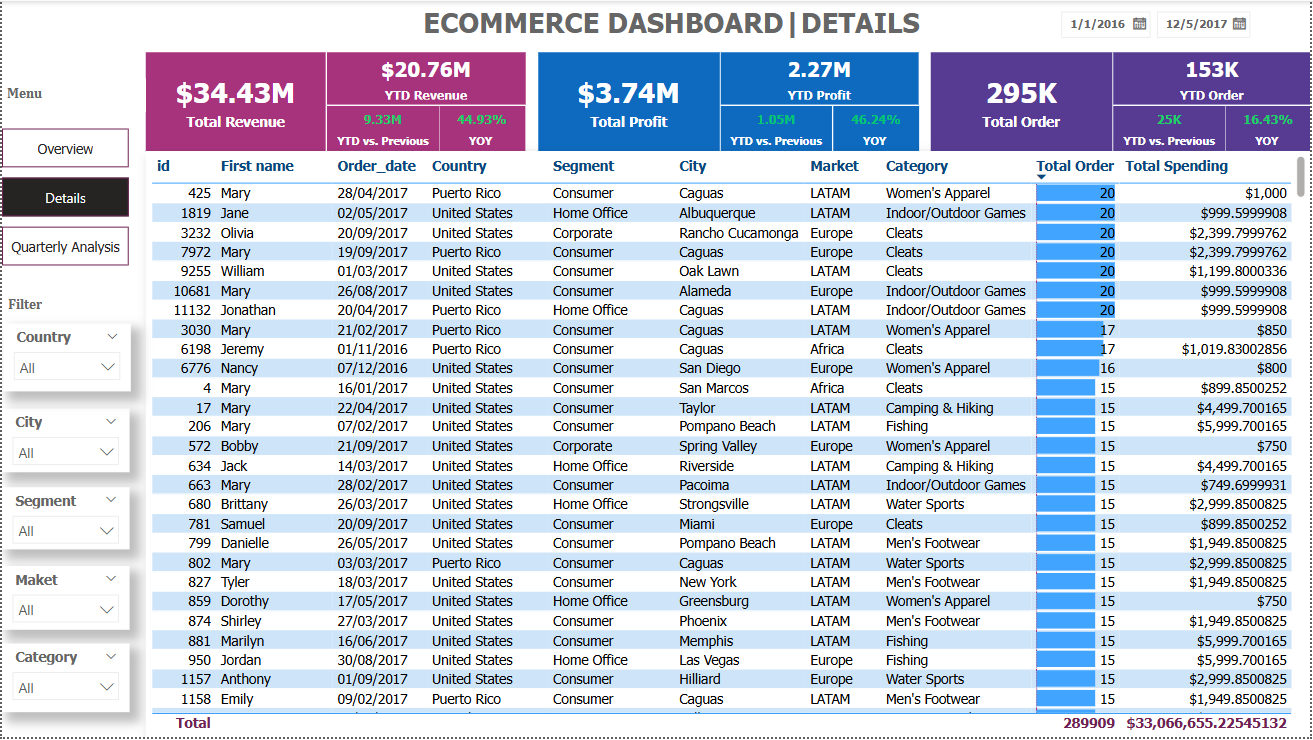

The page's visual inventory and layout, read from the dashboard file:
{"tool":"powerbi","page":{"name":"Details","canvas":[1280,720],"ordinal":1},"visuals":[{"type":"textbox","box":[407.2,0,568.6,50.1],"z":0},{"type":"card","fields":{"Values":["ecommerce_order.Total Revenue"]},"box":[140.6,50.1,176.1,96.6],"z":1000},{"type":"card","fields":{"Values":["ecommerce_order.YTD Revenue"]},"box":[317.9,50.1,194.4,51.4],"z":2000},{"type":"card","fields":{"Values":["ecommerce_order.Diff Revenue"]},"box":[318.4,102.9,109.8,43.9],"z":3000},{"type":"card","fields":{"Values":["ecommerce_order.YOY Revenue"]},"box":[428.1,102.9,83.7,43.9],"z":4000},{"type":"card","fields":{"Values":["ecommerce_order.Total Profit"]},"box":[524.6,50.1,177.3,96.6],"z":5000},{"type":"card","fields":{"Values":["ecommerce_order.YTD Profit"]},"box":[703.1,50.1,193.2,51.4],"z":6000},{"type":"card","fields":{"Values":["ecommerce_order.Diff Profit"]},"box":[703.1,102.7,108.8,44],"z":7000},{"type":"card","fields":{"Values":["ecommerce_order.Total Order"]},"box":[908.6,50.1,177.3,96.6],"z":8000},{"type":"card","fields":{"Values":["ecommerce_order.YTD Order"]},"box":[1086.8,50.1,193.2,51.4],"z":9000},{"type":"card","fields":{"Values":["ecommerce_order.Diff Order"]},"box":[1086.8,102.9,109.8,43.9],"z":10000},{"type":"card","fields":{"Values":["ecommerce_order.YOY Order"]},"box":[1196.6,102.9,83.7,43.9],"z":11000},{"type":"card","fields":{"Values":["ecommerce_order.YOY Profit"]},"box":[813.2,102.7,84.4,44],"z":12000},{"type":"slicer","fields":{"Values":["calendar.Date_format"]},"box":[1023.5,0,215.2,40.4],"z":13000},{"type":"textbox","box":[0,75.8,140.6,33],"z":14000},{"type":"textbox","box":[1.2,282.5,140.6,33],"z":15000},{"type":"slicer","fields":{"Values":["ecommerce_customer.customer_city"]},"box":[0,398.6,124.7,62.4],"z":16000},{"type":"slicer","fields":{"Values":["ecommerce_customer.customer_segment"]},"box":[0,475.7,124.7,61.1],"z":17000},{"type":"slicer","fields":{"Values":["ecommerce_order.market"]},"box":[0,552.7,124.7,62.4],"z":18000},{"type":"slicer","fields":{"Values":["ecommerce_order.category_name"]},"box":[0,628.5,124.7,67.3],"z":19000},{"type":"pageNavigator","box":[0,124.7,124.7,135.7],"z":20000},{"type":"tableEx","fields":{"Values":["ecommerce_customer.customer_id","ecommerce_customer.customer_fname","ecommerce_order.order_date","ecommerce_customer.customer_country","ecommerce_customer.customer_segment","ecommerce_customer.customer_city","ecommerce_order.market","ecommerce_order.category_name","ecommerce_order.Total Order","ecommerce_order.Total Revenue"]},"box":[140.6,146.7,1139.7,573.5],"z":21000},{"type":"slicer","fields":{"Values":["ecommerce_customer.customer_country"]},"box":[1.2,315.5,124.7,66],"z":21001}]}

Visuals, with their boxes on the page's 1280x720 design canvas (x1, y1, x2, y2). These are canvas units, not pixel positions in the 1313x740 screenshot, which may show the page scaled, cropped or inside an application window:
textbox: [x1=407, y1=0, x2=976, y2=50]
card - ecommerce_order.Total Revenue: [x1=141, y1=50, x2=317, y2=147]
card - ecommerce_order.YTD Revenue: [x1=318, y1=50, x2=512, y2=102]
card - ecommerce_order.Diff Revenue: [x1=318, y1=103, x2=428, y2=147]
card - ecommerce_order.YOY Revenue: [x1=428, y1=103, x2=512, y2=147]
card - ecommerce_order.Total Profit: [x1=525, y1=50, x2=702, y2=147]
card - ecommerce_order.YTD Profit: [x1=703, y1=50, x2=896, y2=102]
card - ecommerce_order.Diff Profit: [x1=703, y1=103, x2=812, y2=147]
card - ecommerce_order.Total Order: [x1=909, y1=50, x2=1086, y2=147]
card - ecommerce_order.YTD Order: [x1=1087, y1=50, x2=1280, y2=102]
card - ecommerce_order.Diff Order: [x1=1087, y1=103, x2=1197, y2=147]
card - ecommerce_order.YOY Order: [x1=1197, y1=103, x2=1280, y2=147]
card - ecommerce_order.YOY Profit: [x1=813, y1=103, x2=898, y2=147]
slicer - calendar.Date_format: [x1=1024, y1=0, x2=1239, y2=40]
textbox: [x1=0, y1=76, x2=141, y2=109]
textbox: [x1=1, y1=282, x2=142, y2=316]
slicer - ecommerce_customer.customer_city: [x1=0, y1=399, x2=125, y2=461]
slicer - ecommerce_customer.customer_segment: [x1=0, y1=476, x2=125, y2=537]
slicer - ecommerce_order.market: [x1=0, y1=553, x2=125, y2=615]
slicer - ecommerce_order.category_name: [x1=0, y1=628, x2=125, y2=696]
pageNavigator: [x1=0, y1=125, x2=125, y2=260]
tableEx - ecommerce_customer.customer_id x ecommerce_customer.customer_fname: [x1=141, y1=147, x2=1280, y2=720]
slicer - ecommerce_customer.customer_country: [x1=1, y1=316, x2=126, y2=382]
